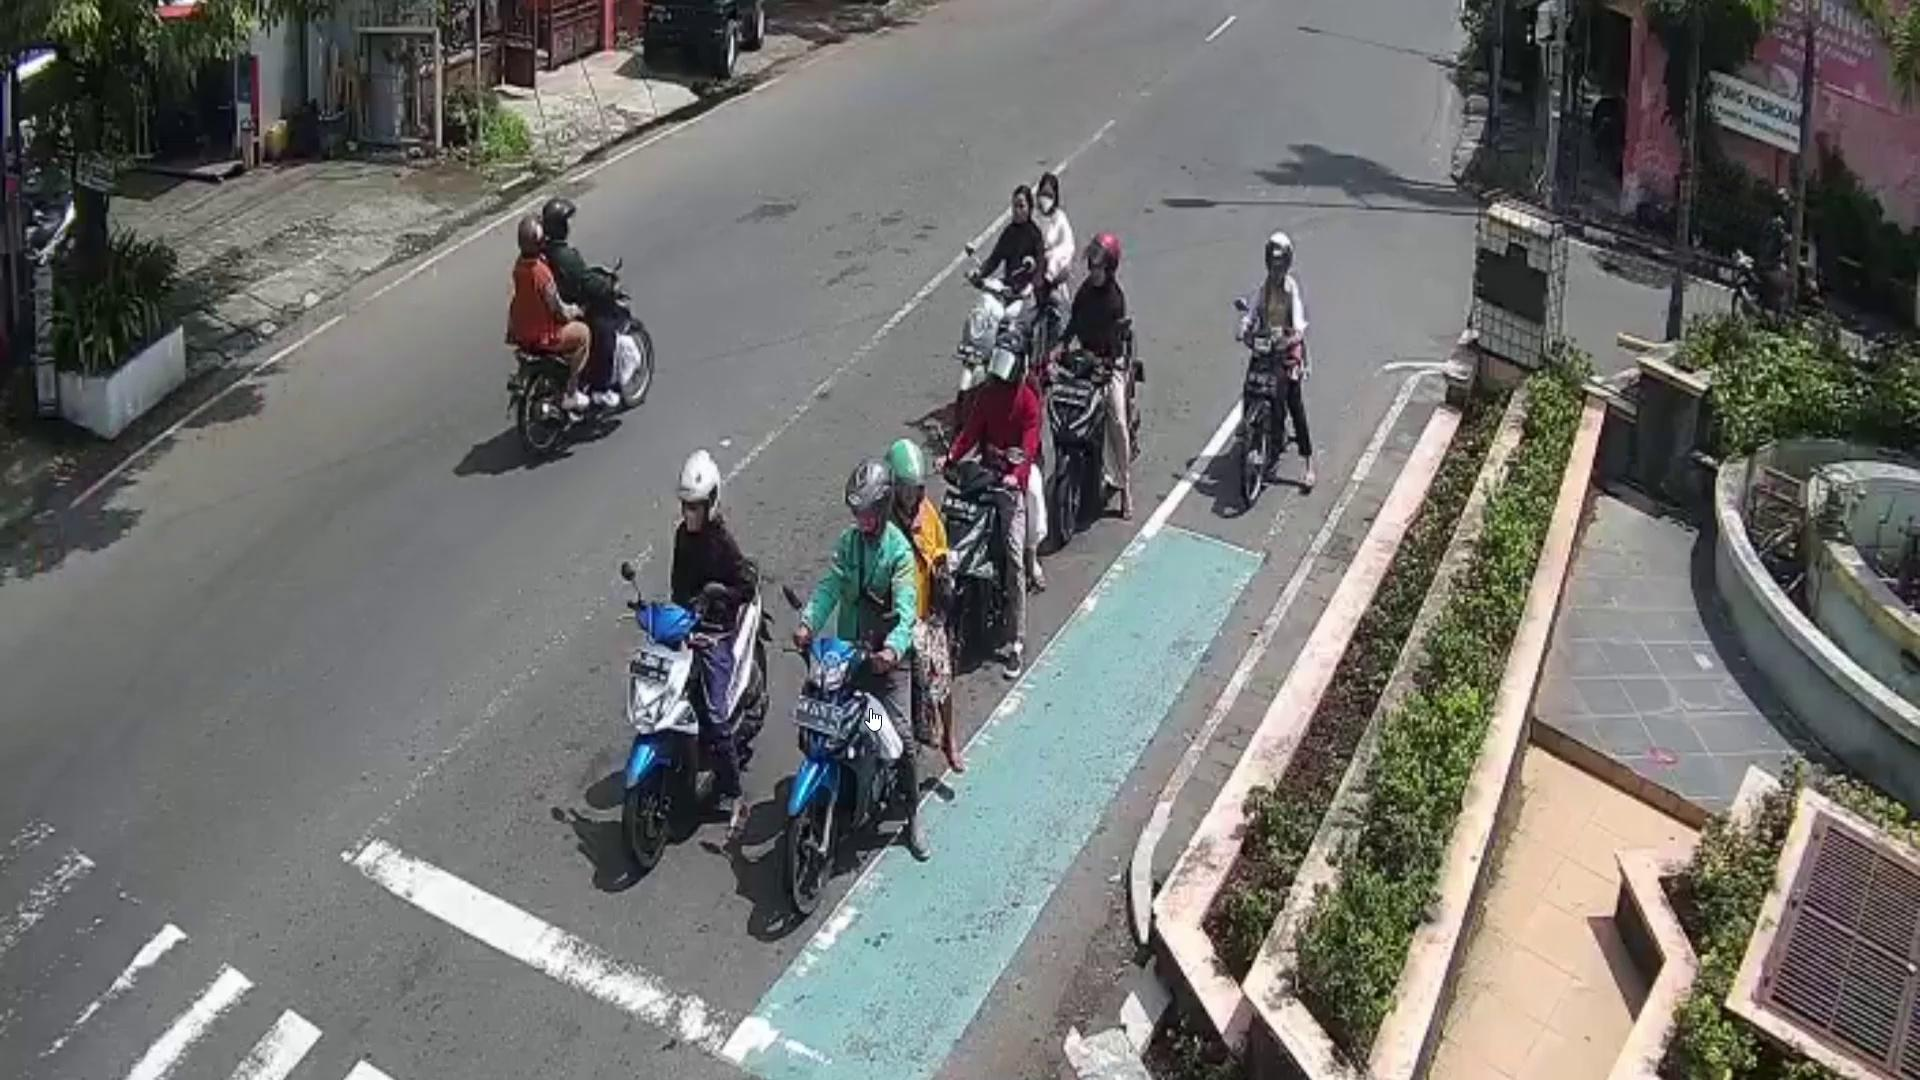motorbike: (622, 560, 770, 870), (504, 266, 655, 462), (783, 636, 882, 922), (939, 455, 1014, 650), (1052, 345, 1112, 550), (1237, 318, 1292, 501)
